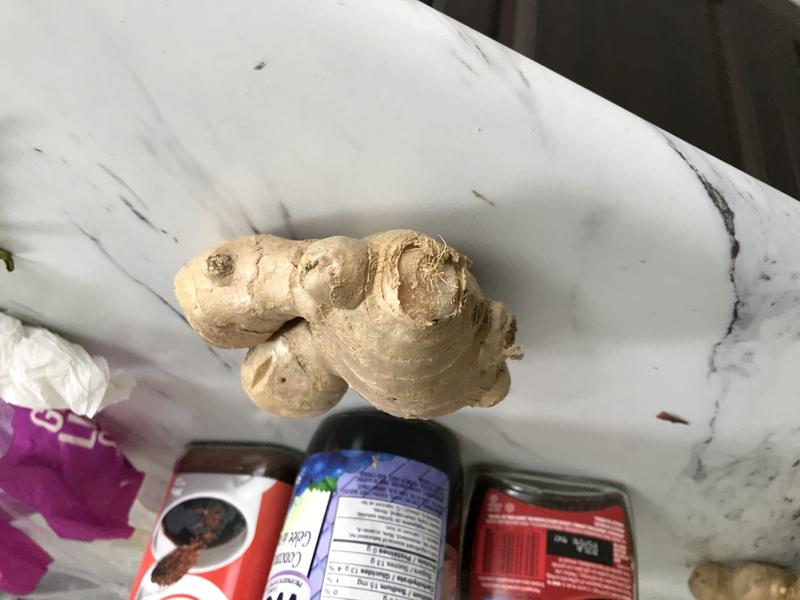ginger: (166, 216, 533, 434), (682, 552, 800, 598)
